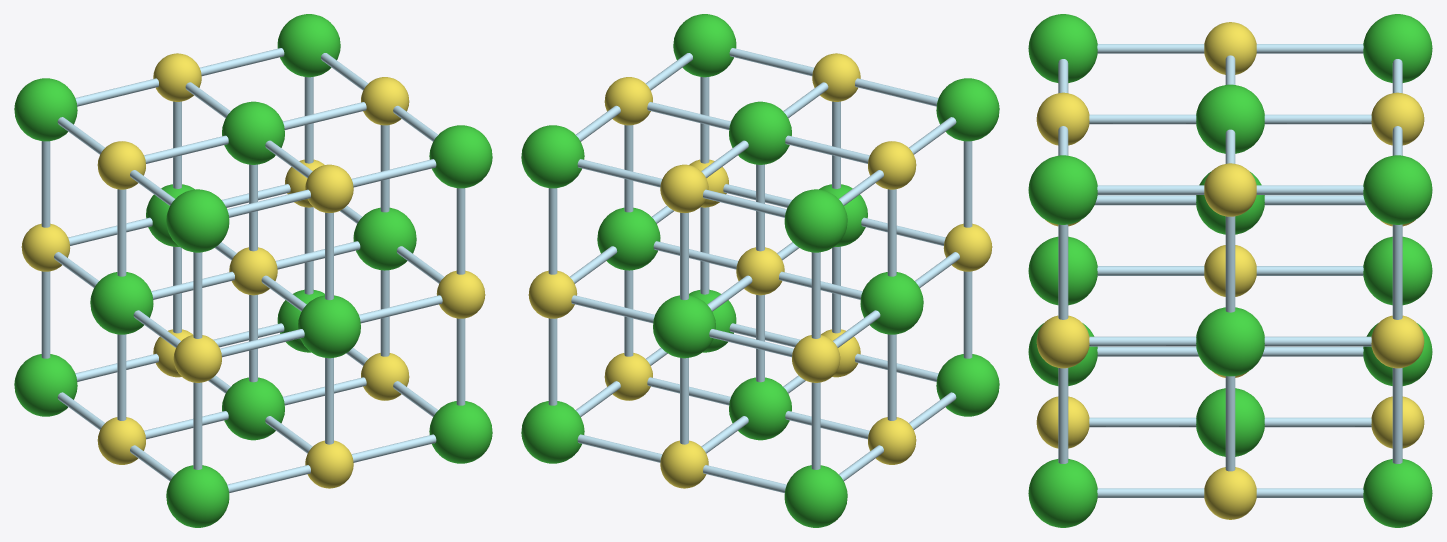
File: index.gltf
3 renders of one model, left to right at view 1: azimuth 30°, elevation 25°; view 2: azimuth 150°, elevation 25°; view 3: azimuth 270°, elevation 25°, orthographic. The views are drawn at different scales.
Parts seen in each view (by area): view 1: node_daqiu04_-7676, node_daqiu08_-7682, node_daqiu03_-7674, node_daqiu07_-7680, node_daqiu14_-7690, node_daqiu02_-7632, node_daqiu06_-7678, node_daqiu01_-7672, node_daqiu11_-7636, node_daqiu05_-7634, node_daqiu09_-7684, node_daqiu12_-7688 (+51 smaller); view 2: node_daqiu02_-7632, node_daqiu06_-7678, node_daqiu01_-7672, node_daqiu10_-7686, node_daqiu13_-7638, node_daqiu04_-7676, node_daqiu08_-7682, node_daqiu03_-7674, node_daqiu11_-7636, node_daqiu05_-7634, node_daqiu09_-7684, node_daqiu12_-7688 (+51 smaller); view 3: node_daqiu01_-7672, node_daqiu03_-7674, node_daqiu12_-7688, node_daqiu07_-7680, node_daqiu10_-7686, node_daqiu05_-7634, node_daqiu02_-7632, node_daqiu04_-7676, node_daqiu13_-7638, node_daqiu14_-7690, node_daqiu09_-7684, node_xiaoqiu10_-7790 (+36 smaller).
Part boxes in pixels (x1=…): node_daqiu04_-7676: x1=166, y1=189, x2=229, y2=252; node_daqiu08_-7682: x1=166, y1=465, x2=229, y2=527; node_daqiu03_-7674: x1=429, y1=125, x2=492, y2=188; node_daqiu07_-7680: x1=429, y1=401, x2=492, y2=463; node_daqiu14_-7690: x1=298, y1=295, x2=360, y2=358; node_daqiu02_-7632: x1=14, y1=78, x2=77, y2=141; node_daqiu06_-7678: x1=14, y1=354, x2=77, y2=416; node_daqiu01_-7672: x1=277, y1=14, x2=340, y2=77; node_daqiu11_-7636: x1=90, y1=272, x2=153, y2=334; node_daqiu05_-7634: x1=222, y1=101, x2=284, y2=164; node_daqiu09_-7684: x1=222, y1=377, x2=284, y2=440; node_daqiu12_-7688: x1=353, y1=207, x2=416, y2=270; node_daqiu02_-7632: x1=784, y1=189, x2=847, y2=252; node_daqiu06_-7678: x1=784, y1=465, x2=847, y2=527; node_daqiu01_-7672: x1=521, y1=125, x2=584, y2=188; node_daqiu10_-7686: x1=521, y1=401, x2=584, y2=463; node_daqiu13_-7638: x1=653, y1=295, x2=715, y2=358; node_daqiu04_-7676: x1=936, y1=78, x2=999, y2=141; node_daqiu08_-7682: x1=936, y1=354, x2=999, y2=416; node_daqiu03_-7674: x1=673, y1=14, x2=736, y2=77; node_daqiu11_-7636: x1=860, y1=272, x2=923, y2=334; node_daqiu05_-7634: x1=729, y1=101, x2=791, y2=164; node_daqiu09_-7684: x1=729, y1=377, x2=791, y2=440; node_daqiu12_-7688: x1=597, y1=207, x2=660, y2=270; node_daqiu01_-7672: x1=1363, y1=155, x2=1432, y2=224; node_daqiu03_-7674: x1=1028, y1=155, x2=1097, y2=224; node_daqiu12_-7688: x1=1196, y1=307, x2=1264, y2=376; node_daqiu07_-7680: x1=1028, y1=459, x2=1097, y2=527; node_daqiu10_-7686: x1=1363, y1=459, x2=1432, y2=527; node_daqiu05_-7634: x1=1196, y1=84, x2=1264, y2=153; node_daqiu02_-7632: x1=1363, y1=14, x2=1432, y2=82; node_daqiu04_-7676: x1=1028, y1=14, x2=1097, y2=82; node_daqiu13_-7638: x1=1363, y1=236, x2=1432, y2=305; node_daqiu14_-7690: x1=1028, y1=236, x2=1097, y2=305; node_daqiu09_-7684: x1=1196, y1=388, x2=1264, y2=456; node_xiaoqiu10_-7790: x1=1204, y1=163, x2=1256, y2=216.
Size of the model in its own units: 1.21 by 1.21 by 1.21.
